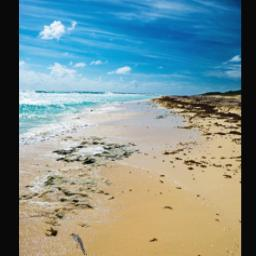Cuckoo: (69, 233, 88, 256)
